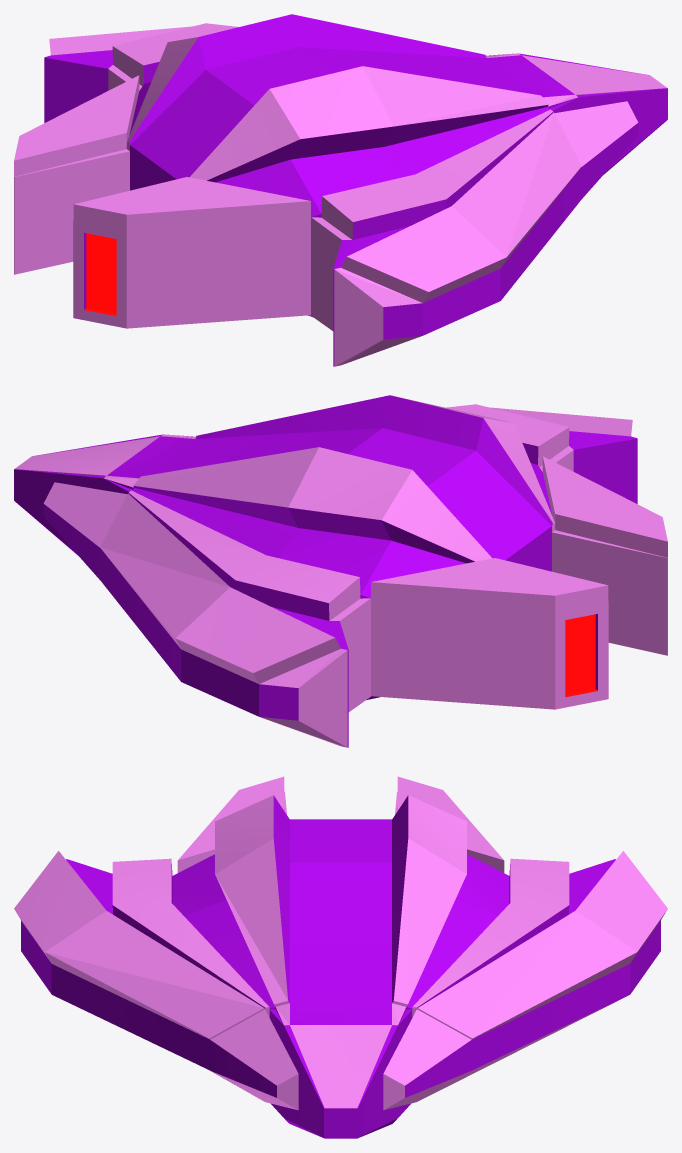
The model's file is enemyship.glb.
The picture shows the model from 3 angles, top to bottom: view 1: azimuth 30°, elevation 25°; view 2: azimuth 150°, elevation 25°; view 3: azimuth 270°, elevation 25°; orthographic projection. The views are drawn at different scales.
Visible parts, largest first — view 1: PM3D_Cube3D1; view 2: PM3D_Cube3D1; view 3: PM3D_Cube3D1.
Part boxes in pixels (x1,y1,x2,y2): PM3D_Cube3D1: [14, 14, 667, 366]; PM3D_Cube3D1: [14, 395, 667, 747]; PM3D_Cube3D1: [14, 776, 667, 1138].
Size of the model in its own units: 2.64 by 0.9357 by 2.56.
